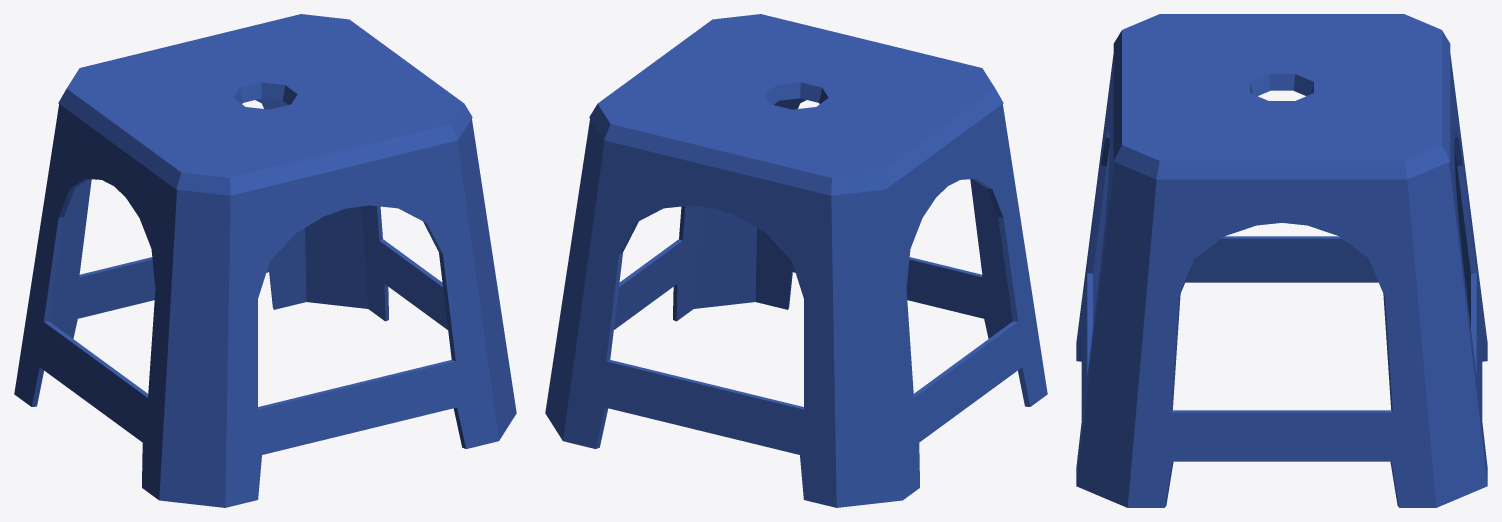
The model's file is SM_Furniture_StoolLow_Blue_01.obj.
The picture shows the model from 3 angles, left to right: view 1: azimuth 30°, elevation 25°; view 2: azimuth 150°, elevation 25°; view 3: azimuth 270°, elevation 25°; orthographic projection. The views are drawn at different scales.
Parts seen in each view (by area): view 1: SM_Furniture_StoolLow_Blue_01; view 2: SM_Furniture_StoolLow_Blue_01; view 3: SM_Furniture_StoolLow_Blue_01.
Boxes of the visible parts, <box> form: SM_Furniture_StoolLow_Blue_01: <box>14,14,516,507</box>; SM_Furniture_StoolLow_Blue_01: <box>545,14,1047,507</box>; SM_Furniture_StoolLow_Blue_01: <box>1076,14,1487,507</box>.
Size of the model in its own units: 0.316 by 0.26 by 0.296.
Materials: 1 (1 with a texture image).
